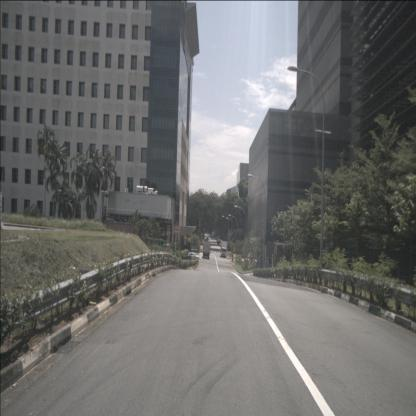vehicle-car: (187, 252, 199, 260), (199, 244, 205, 252), (217, 238, 222, 245)
vehicle-truck: (203, 243, 210, 259), (221, 241, 227, 258)
